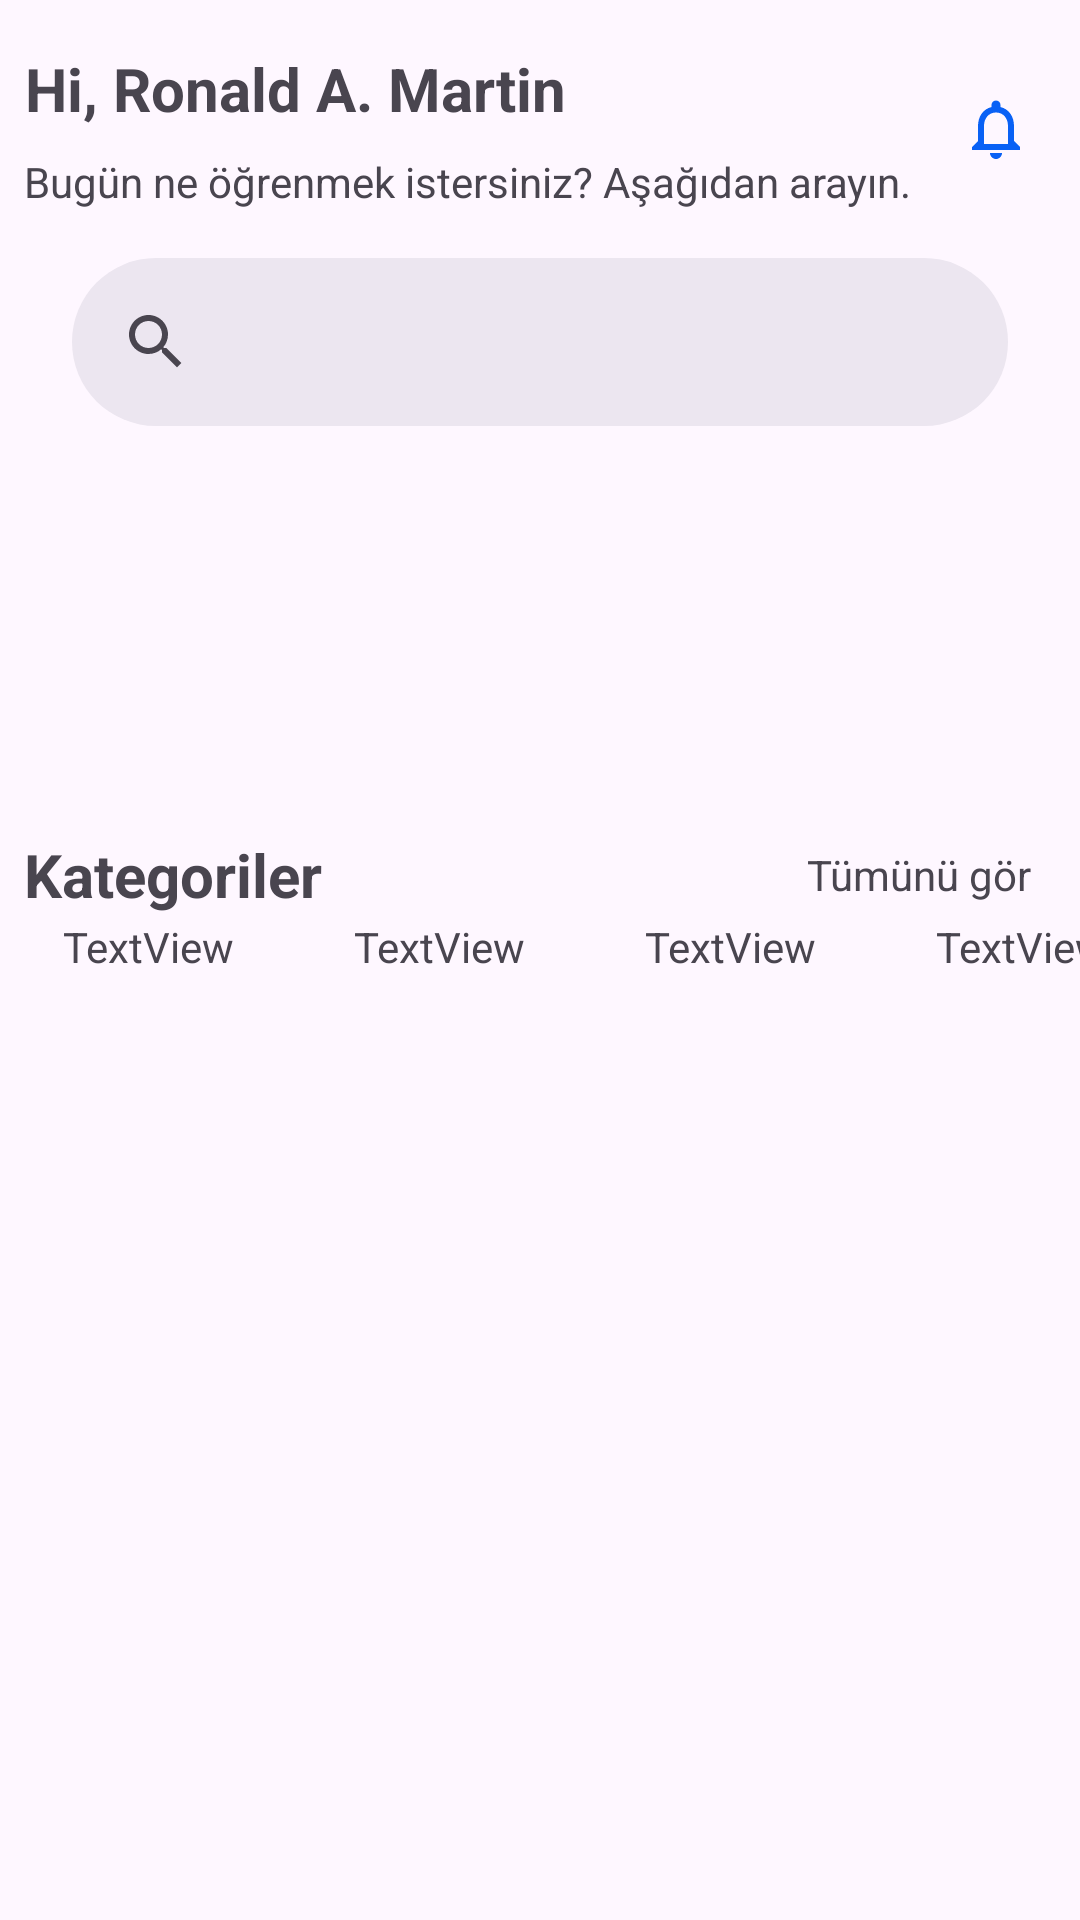

Where to tap for icons on this 1080 x 1920 app screen, as [x,y]:
notifications none: [996,129]
